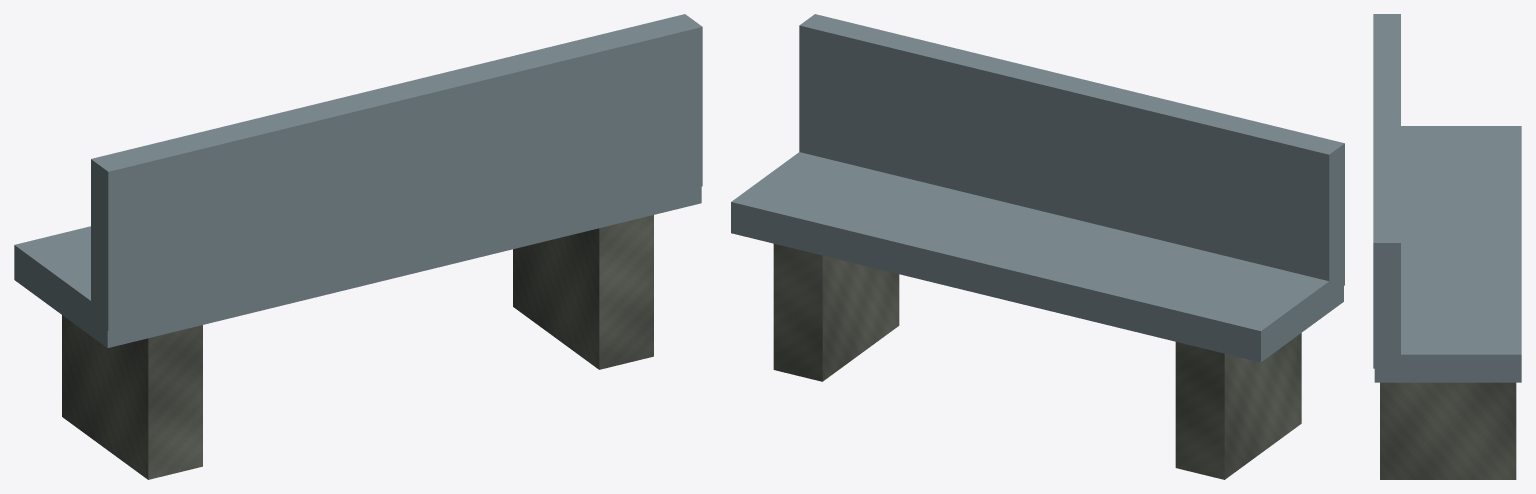
File: prop_bench_ShadowProxy.glb
The picture shows the model from 3 angles, left to right: view 1: azimuth 30°, elevation 25°; view 2: azimuth 150°, elevation 25°; view 3: azimuth 270°, elevation 25°; orthographic projection. The views are drawn at different scales.
Parts seen in each view (by area): view 1: prop_bench__surface.003; view 2: prop_bench__surface.003; view 3: prop_bench__surface.003.
Part boxes in pixels (box(x1,y1,x2,y2)): prop_bench__surface.003: box(14, 14, 702, 479); prop_bench__surface.003: box(731, 14, 1344, 479); prop_bench__surface.003: box(1373, 14, 1521, 479).
Bounding box in the file's own units: 1.95 × 1.01 × 0.535.
Materials: 2 (1 with a texture image).
